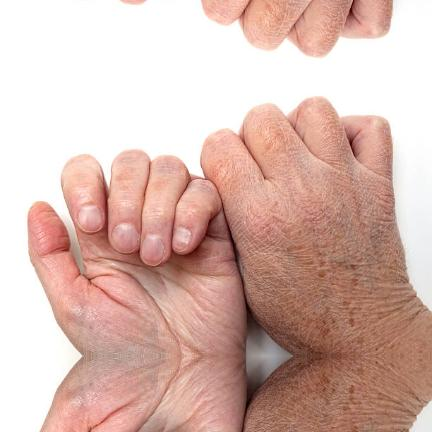Nail: (112, 222, 139, 253), (140, 234, 165, 265), (78, 204, 103, 232), (172, 226, 192, 252)
